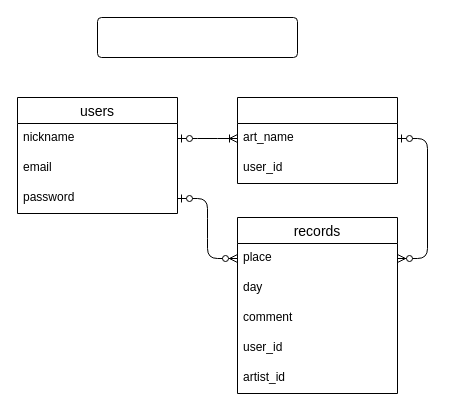
Image size: 454x414. Some labels were removed from this diagram. Each missing label, with the box of its shape:
artists: (236, 96, 398, 184)
『 No LIVE No LIFE 』ER図: (96, 16, 298, 58)
